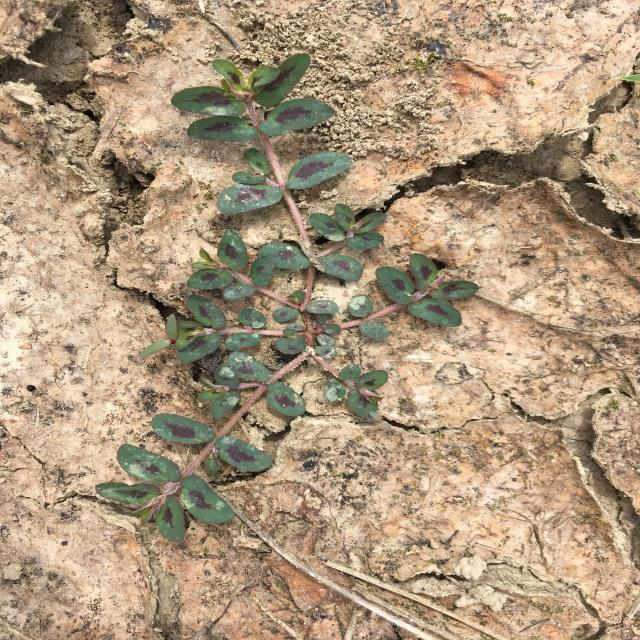SpottedSpurge: (94, 51, 482, 542)
